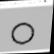no answer: (6, 18, 37, 46)
